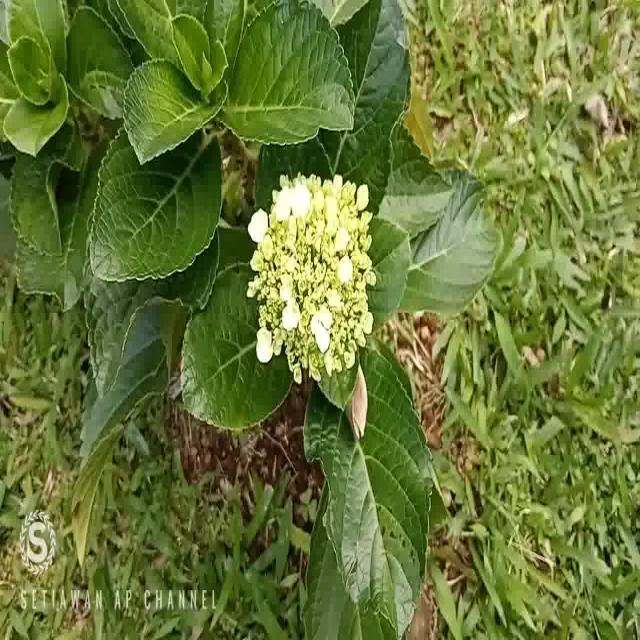Flower: (249, 159, 375, 396)
